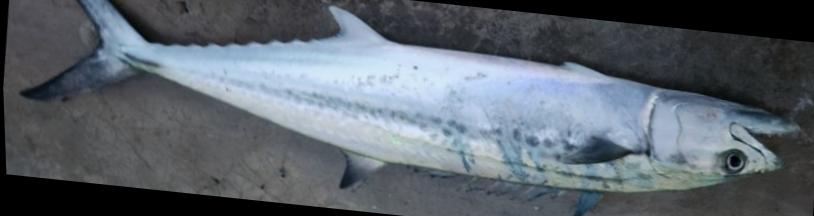fish: (19, 0, 802, 216)
